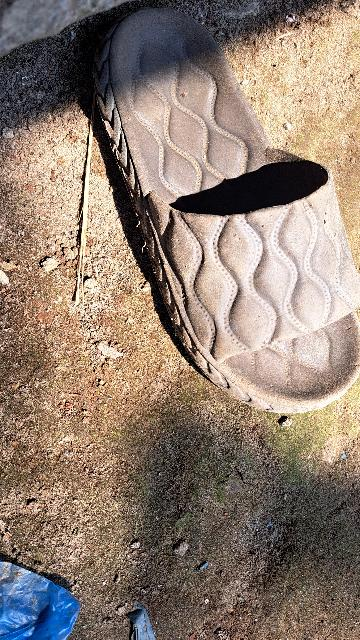sandal: (65, 0, 360, 442)
